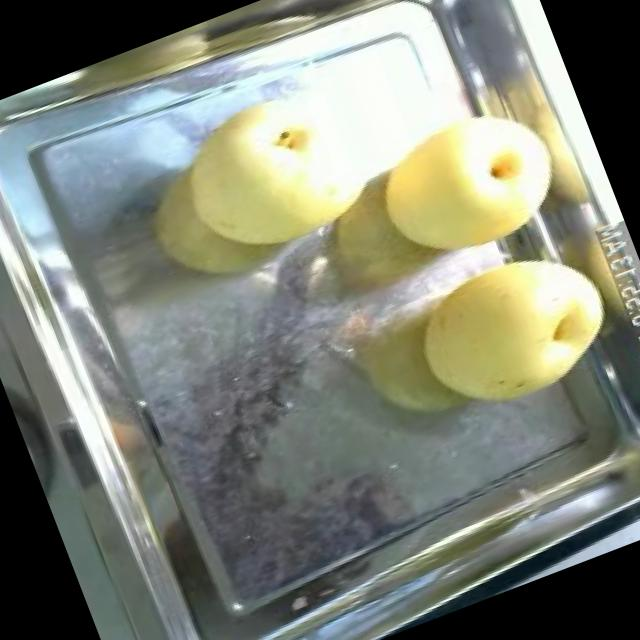Fruit: (387, 220, 639, 443), (134, 72, 376, 300), (353, 79, 573, 288)
